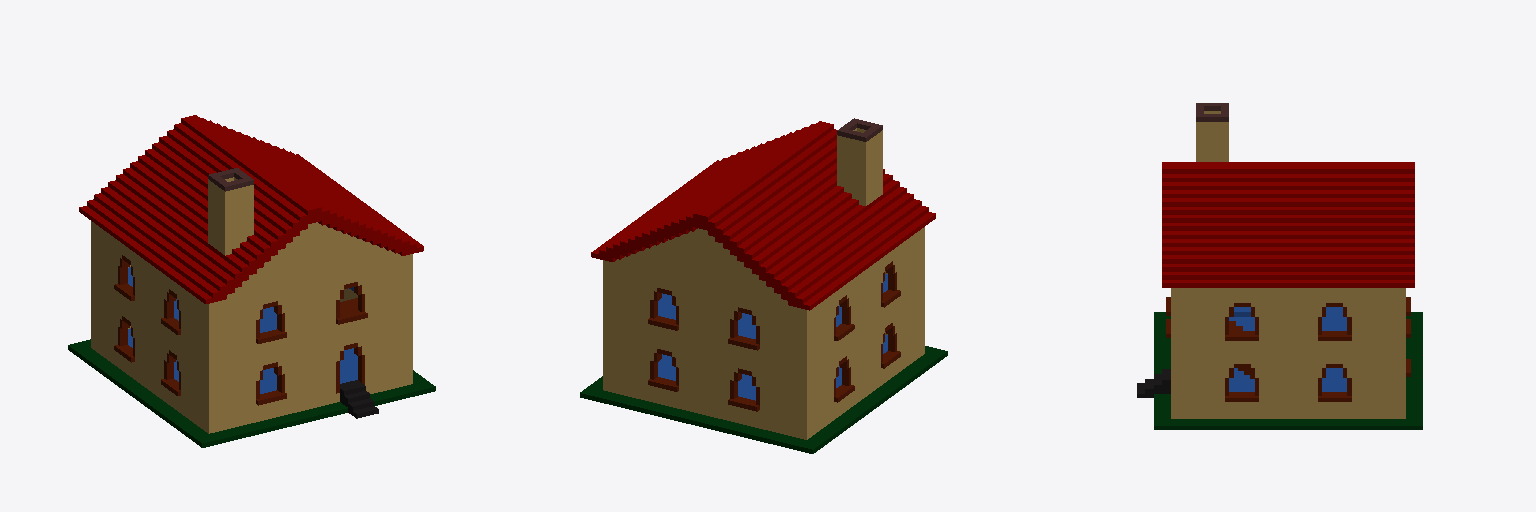
The model's file is house.obj.
3 renders of one model, left to right at view 1: azimuth 30°, elevation 25°; view 2: azimuth 150°, elevation 25°; view 3: azimuth 270°, elevation 25°, orthographic.
Parts seen in each view (by area): view 1: SmoothBlockModel747, SmoothBlockModel601, SmoothBlockModel602, SmoothBlockModel470; view 2: SmoothBlockModel747, SmoothBlockModel601, SmoothBlockModel602, SmoothBlockModel373; view 3: SmoothBlockModel747, SmoothBlockModel601, SmoothBlockModel602, SmoothBlockModel373, SmoothBlockModel460, SmoothBlockModel470, SmoothBlockModel408, SmoothBlockModel463.
Boxes of the visible parts, x1=… form: SmoothBlockModel747: x1=68, y1=339, x2=435, y2=447; SmoothBlockModel601: x1=91, y1=339, x2=412, y2=433; SmoothBlockModel602: x1=128, y1=328, x2=357, y2=393; SmoothBlockModel470: x1=282, y1=189, x2=321, y2=214; SmoothBlockModel747: x1=580, y1=346, x2=947, y2=453; SmoothBlockModel601: x1=603, y1=345, x2=924, y2=439; SmoothBlockModel602: x1=658, y1=335, x2=887, y2=400; SmoothBlockModel373: x1=693, y1=195, x2=732, y2=221; SmoothBlockModel747: x1=1154, y1=312, x2=1422, y2=429; SmoothBlockModel601: x1=1171, y1=410, x2=1405, y2=418; SmoothBlockModel602: x1=1229, y1=317, x2=1346, y2=391; SmoothBlockModel373: x1=1364, y1=162, x2=1414, y2=173; SmoothBlockModel460: x1=1263, y1=162, x2=1313, y2=173; SmoothBlockModel470: x1=1162, y1=162, x2=1212, y2=173; SmoothBlockModel408: x1=1314, y1=162, x2=1363, y2=173; SmoothBlockModel463: x1=1213, y1=162, x2=1262, y2=173.
Size of the model in its own units: 64 by 61.6 by 68.